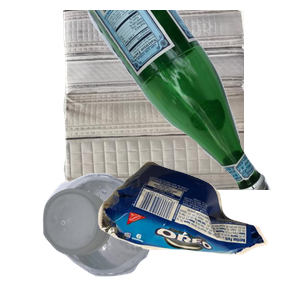glass: (75, 10, 300, 190)
paper: (60, 10, 300, 190)
plastic: (40, 170, 187, 300)
trash: (95, 158, 300, 300)
